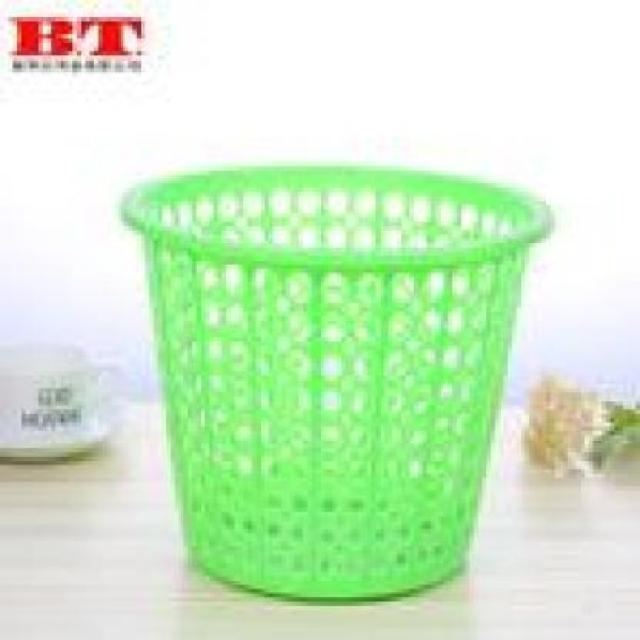dustbin: (114, 158, 558, 608)
